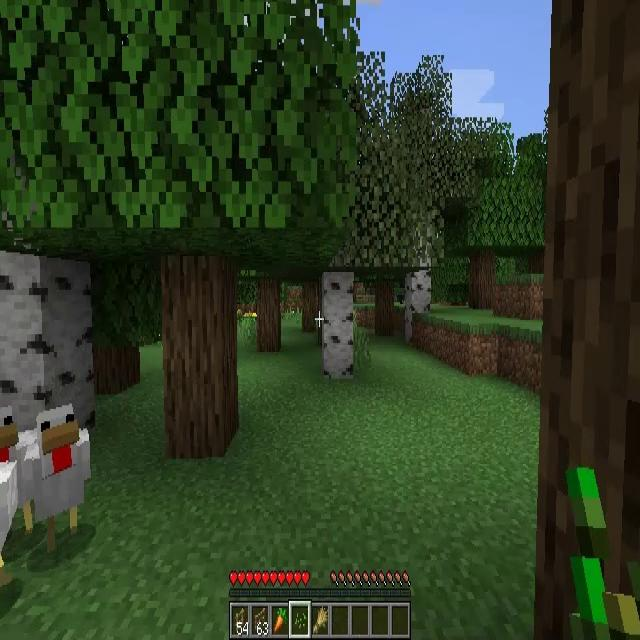duck: (27, 404, 92, 539), (0, 404, 34, 558)
